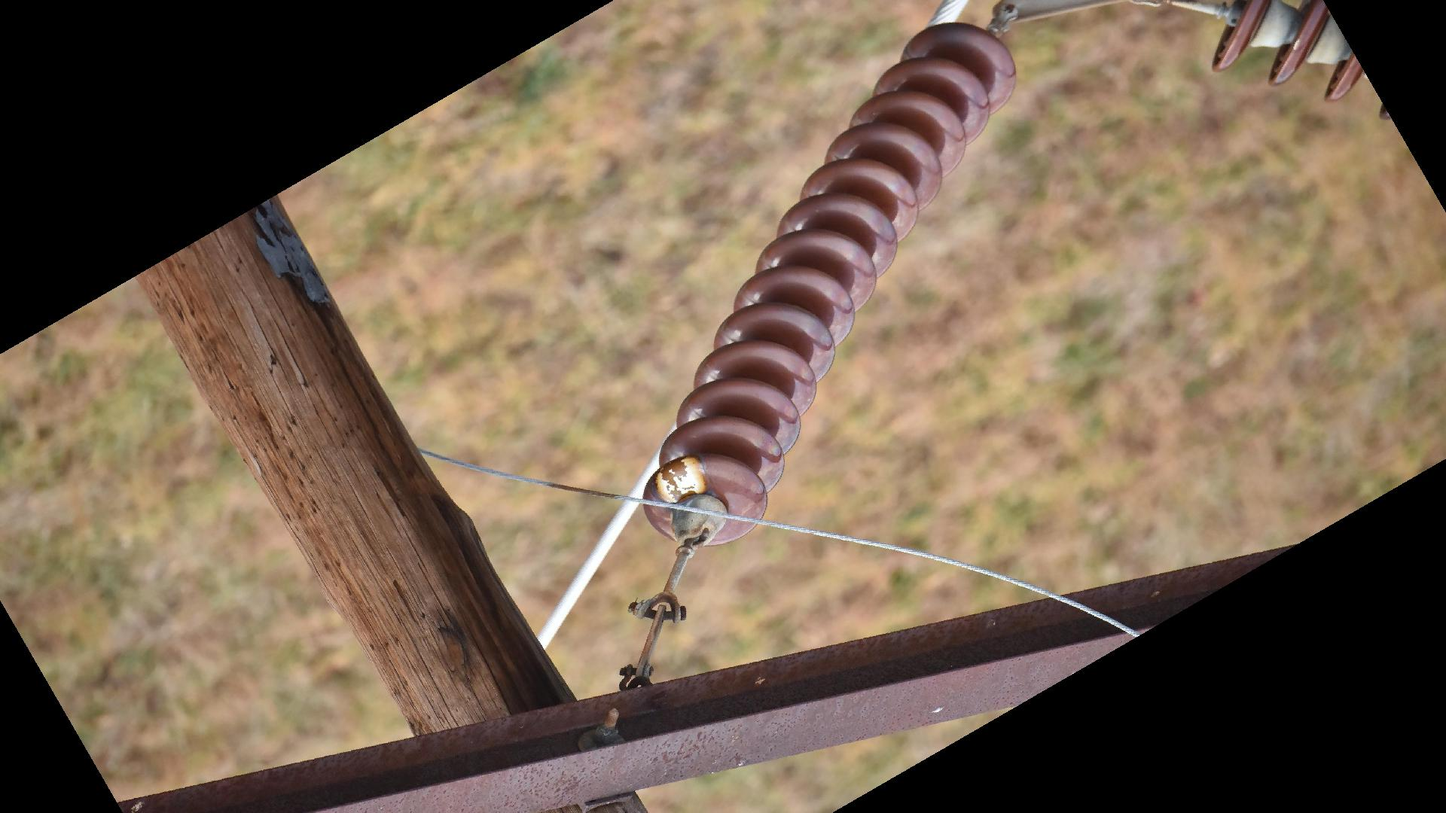insulator: (639, 13, 1025, 550), (1207, 1, 1371, 111)
insulator_flashover: (654, 455, 711, 507)
